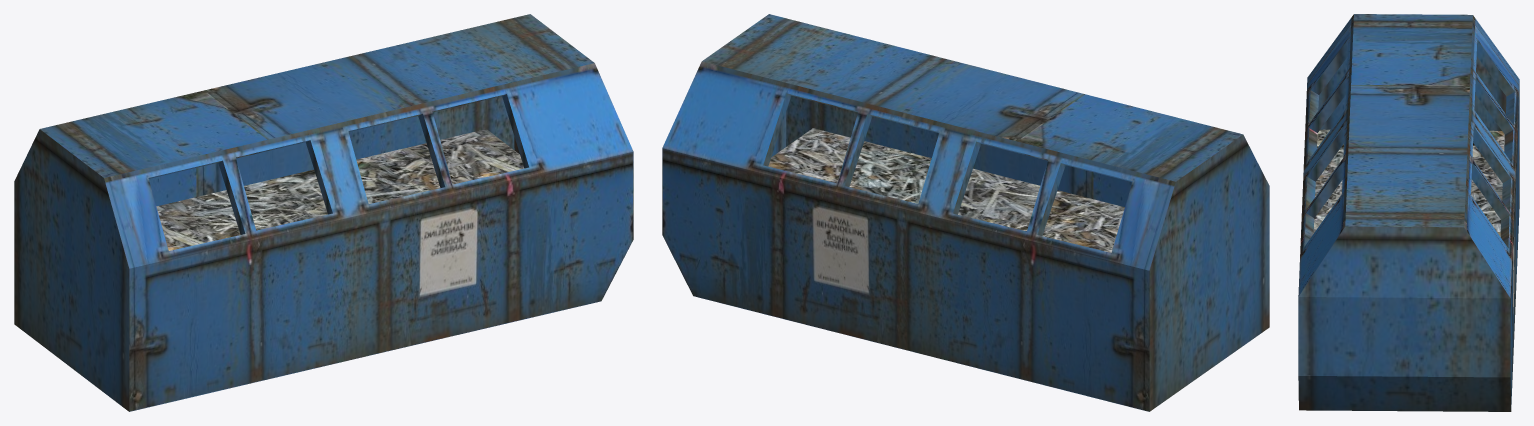
3 renders of one model, left to right at view 1: azimuth 30°, elevation 25°; view 2: azimuth 150°, elevation 25°; view 3: azimuth 270°, elevation 25°, orthographic. The views are drawn at different scales.
Parts seen in each view (by area): view 1: B008_Deposits_0, B008_Trash_01_0; view 2: B008_Deposits_0, B008_Trash_01_0; view 3: B008_Deposits_0, B008_Trash_01_0.
Part boxes in pixels (<box>): B008_Deposits_0: <box>14,14,633,411</box>; B008_Trash_01_0: <box>156,129,524,250</box>; B008_Deposits_0: <box>662,14,1269,411</box>; B008_Trash_01_0: <box>768,128,1124,252</box>; B008_Deposits_0: <box>1298,14,1519,411</box>; B008_Trash_01_0: <box>1313,129,1504,236</box>.
Size of the model in its own units: 4.06 by 1.66 by 1.73.
Materials: 2 (2 with a texture image).
